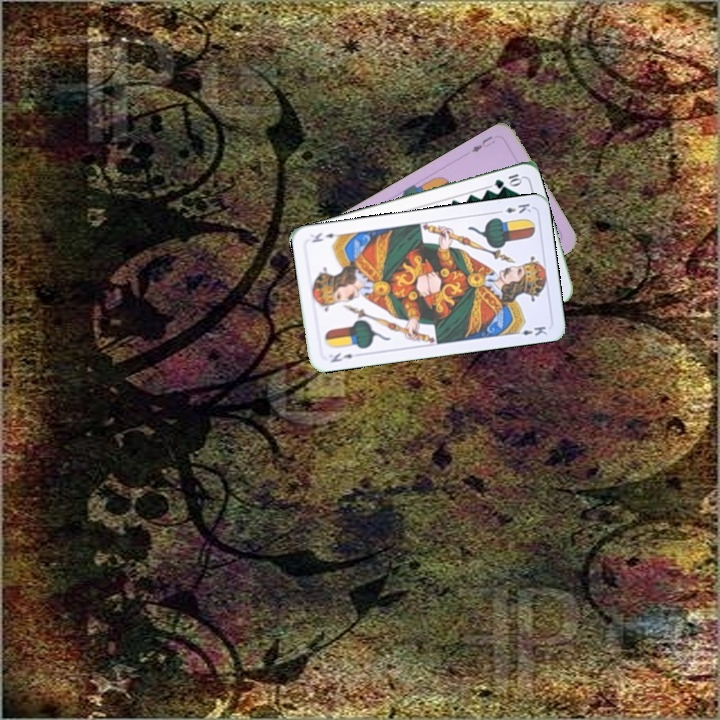EK: (493, 199, 534, 216), (327, 349, 355, 365)
EU: (467, 132, 498, 155)
G10: (490, 170, 524, 191)
